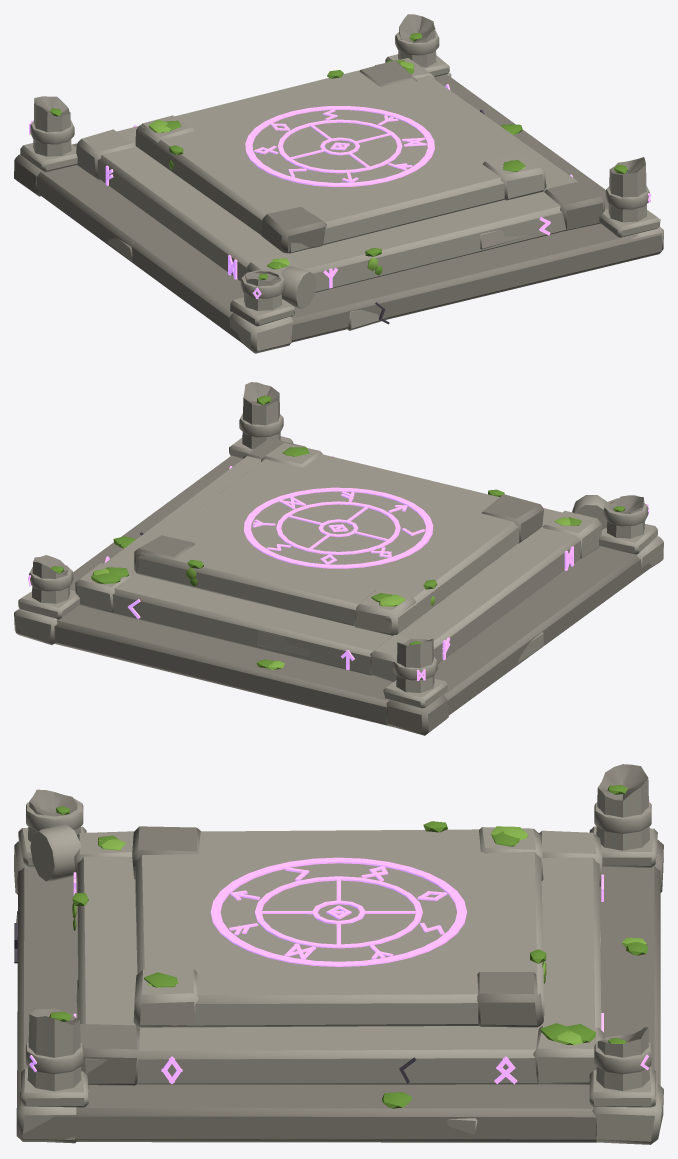
The model's file is ruin_altar.glb.
3 views of the same model, one above another, from view 1: azimuth 30°, elevation 25°; view 2: azimuth 150°, elevation 25°; view 3: azimuth 270°, elevation 25° (orthographic). The views are drawn at different scales.
Parts seen in each view (by area): view 1: RuinAltar; view 2: RuinAltar; view 3: RuinAltar.
Part boxes in pixels (x1=…): RuinAltar: x1=14, y1=14, x2=663, y2=353; RuinAltar: x1=14, y1=382, x2=663, y2=735; RuinAltar: x1=14, y1=764, x2=663, y2=1144.
Size of what is drawn, in the model's own units: 6.03 by 1.27 by 6.04.
